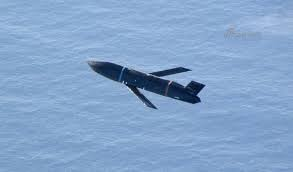ten_lua: (82, 55, 207, 118)
